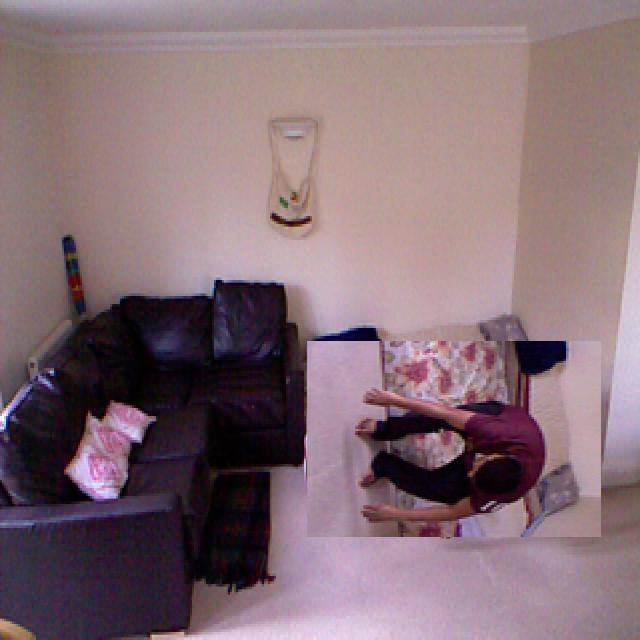NotFall: (336, 350, 557, 542)
